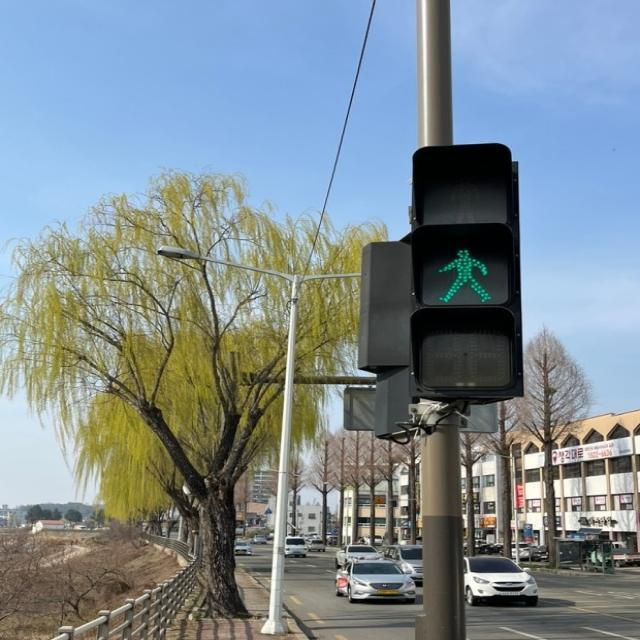green_light: (421, 242, 511, 306)
